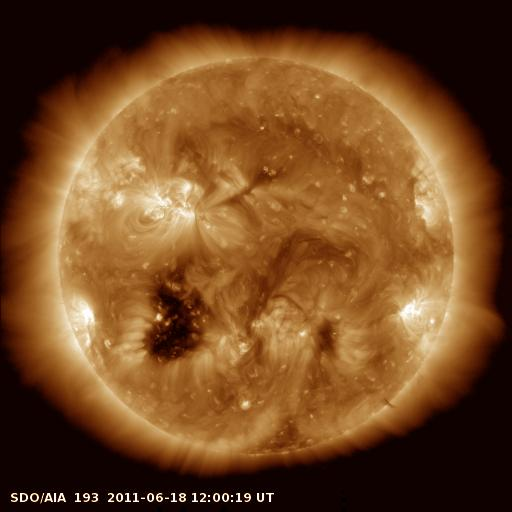coronal_hole: (142, 268, 219, 368)
